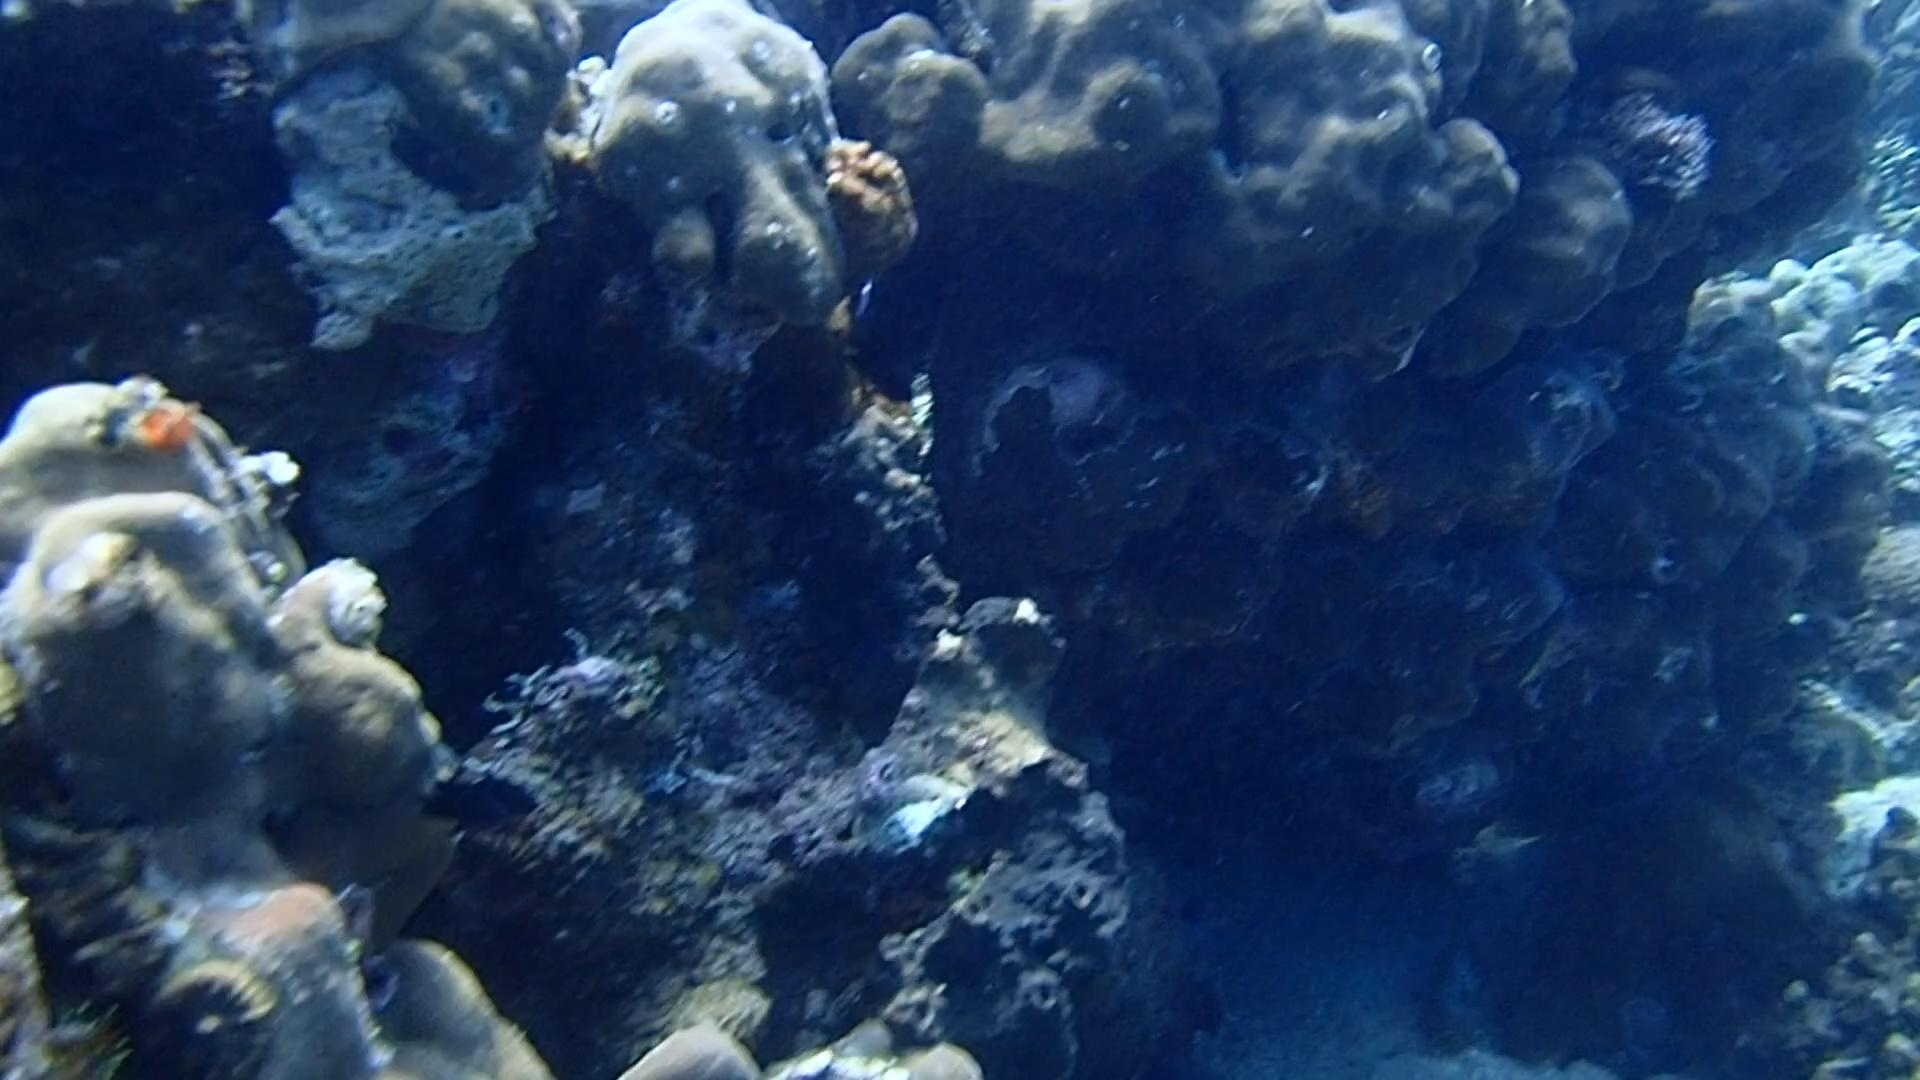Dark Fish: (407, 767, 518, 847), (450, 766, 543, 833)
